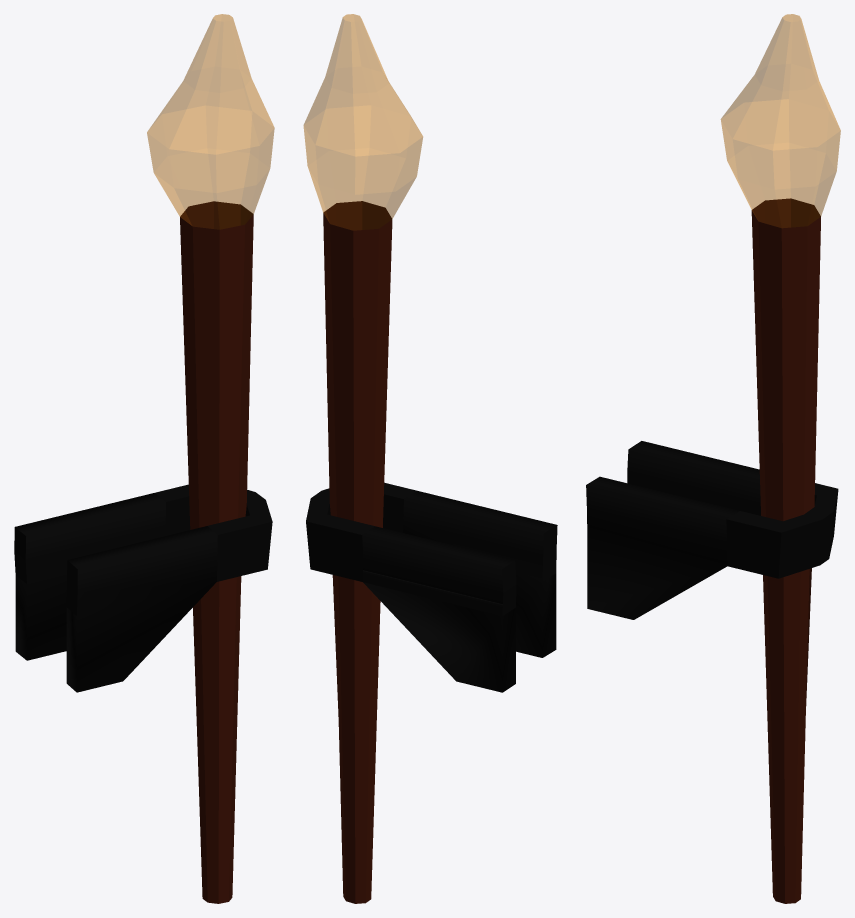
File: Torch2.fbx
3 renders of one model, left to right at view 1: azimuth 30°, elevation 25°; view 2: azimuth 150°, elevation 25°; view 3: azimuth 330°, elevation 25°, orthographic.
Parts seen in each view (by area): view 1: Torch; view 2: Torch; view 3: Torch.
Boxes of the visible parts, <box> form: Torch: <box>14,14,274,903</box>; Torch: <box>303,14,557,903</box>; Torch: <box>586,14,840,903</box>.
Size of the model in its own units: 0.5815 by 2.22 by 0.2711.
